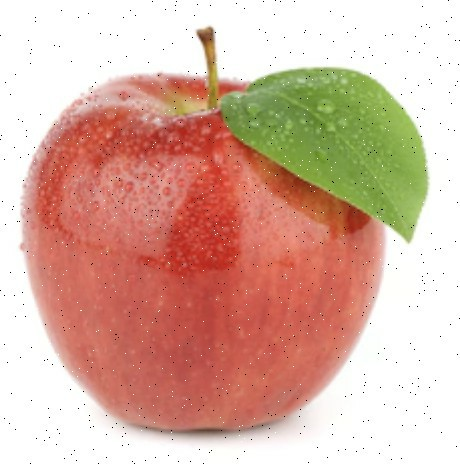fresh_apple: (14, 71, 402, 436)
